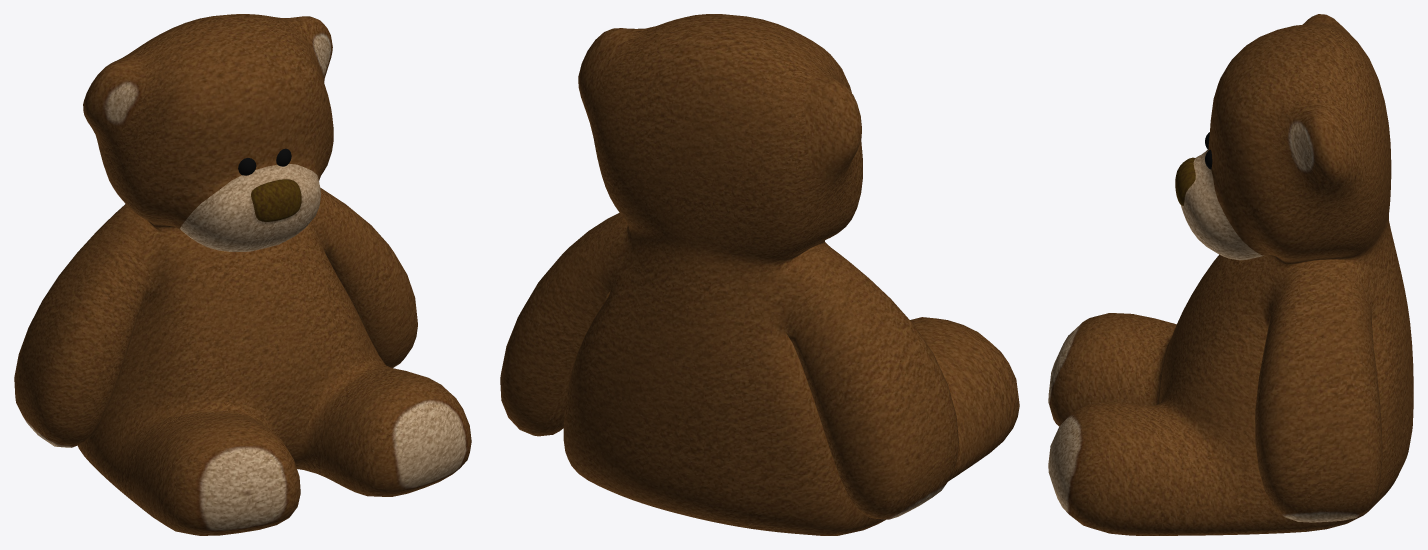
Rendered from quit.fbx.
3 renders of one model, left to right at view 1: azimuth 30°, elevation 25°; view 2: azimuth 150°, elevation 25°; view 3: azimuth 270°, elevation 25°, orthographic. The views are drawn at different scales.
Parts seen in each view (by area): view 1: Cube; view 2: Cube; view 3: Cube.
Part boxes in pixels (x1,y1,x2,y2): Cube: [14, 14, 471, 535]; Cube: [500, 14, 1019, 535]; Cube: [1048, 14, 1413, 535].
Size of the model in its own units: 419 by 440 by 337.
